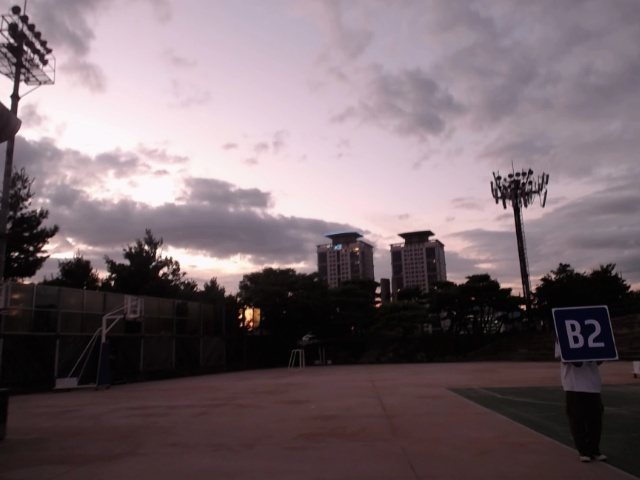delivery_b2: (551, 303, 620, 365)
